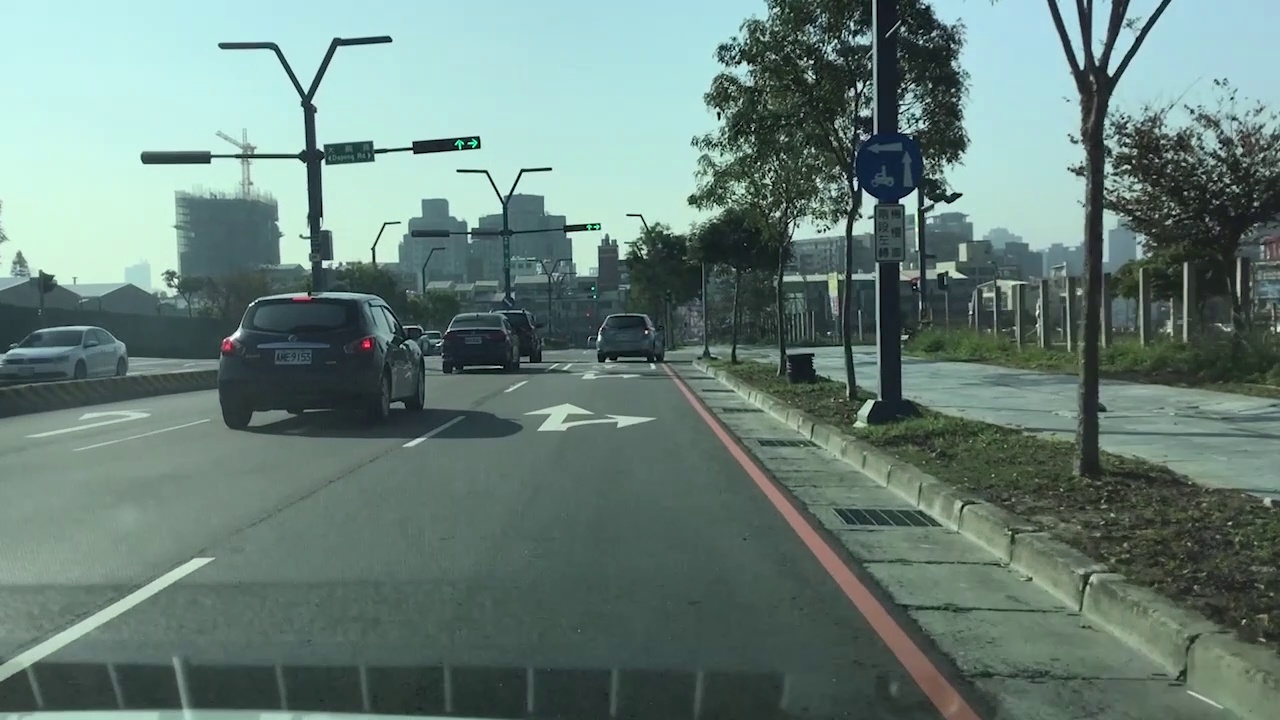Pedestrian_Crossing: (533, 364, 644, 373)
